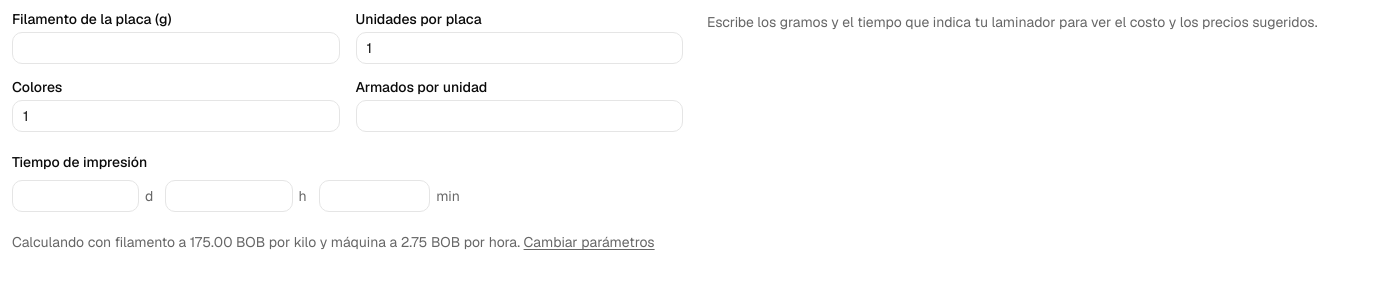
PrintCostPage › el tiempo se escribe en días, horas y minutos, y se cuenta en minutos
Type "1" into the field named "Días" at x=76, y=196, box [12, 180, 139, 212]
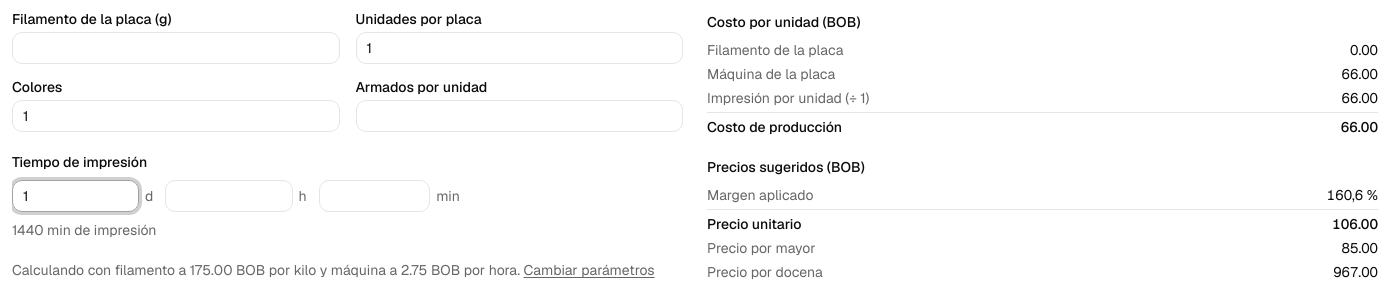
Type "2" into the field named "Horas" at x=229, y=196, box [165, 180, 292, 212]
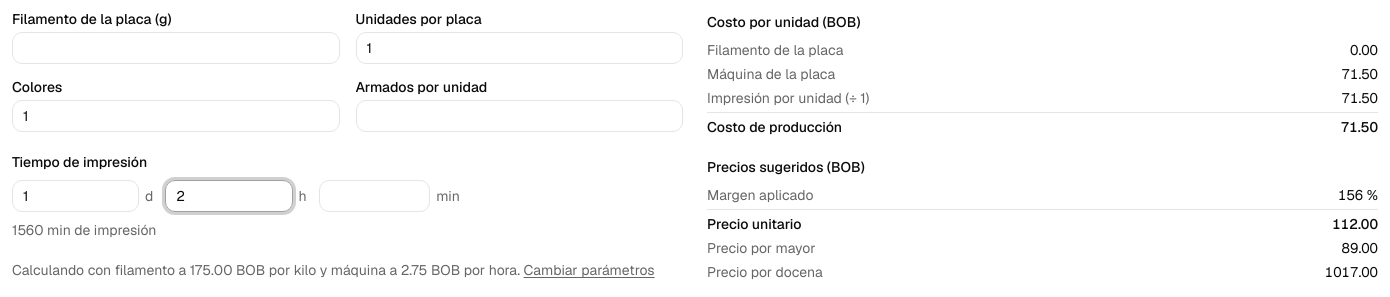
Expected: the text with test id "print-cost-minutes" shows "1560 min", [12, 221, 71, 239]
Expected: the text "71.50" in the row of "Máquina de la placa" is shown, [1342, 65, 1378, 83]
